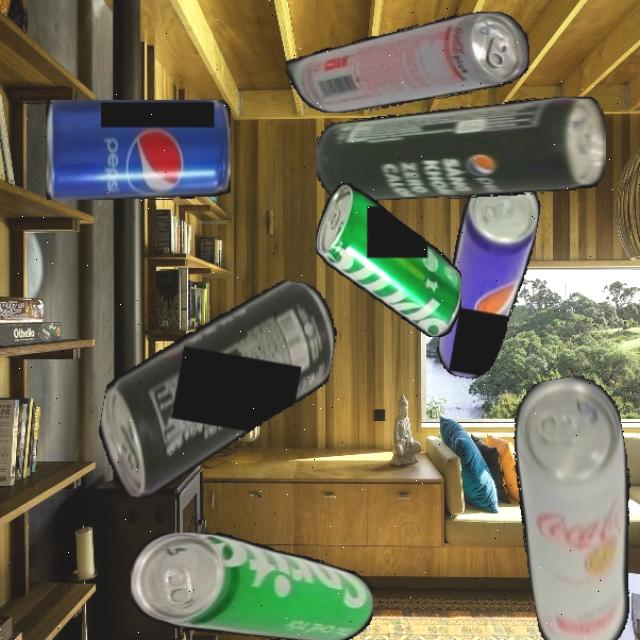debris: (90, 253, 343, 526), (497, 370, 640, 640), (317, 96, 606, 201), (130, 531, 373, 640), (285, 11, 529, 112), (434, 170, 544, 385), (315, 182, 461, 337), (44, 99, 230, 200)
